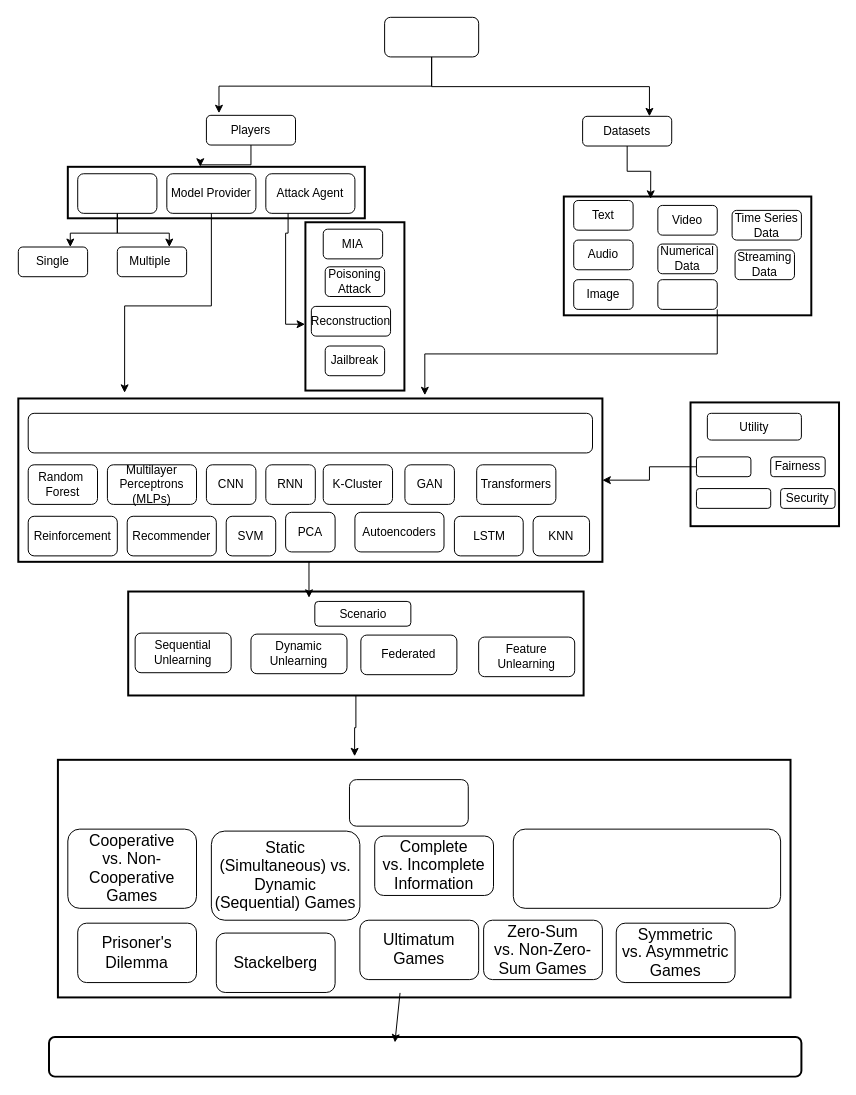
The diagram is 856 pixels wide and 1095 high, and some of its shapes have lost their labels. Each missing label, with the centre of its shape:
Autiting & Performance Evaluation: point (425, 1056)
Data Provider: point (117, 193)
Game Theory Models & Strategies: point (408, 802)
Machine Learning Models: point (310, 432)
Machine Unlearning: point (431, 36)
Perfect vs. Imperfect Information (relevant for Dynamic Games): point (646, 868)
Privacy: point (723, 466)
Transparency: point (733, 498)
Unlabeled Data: point (687, 294)
